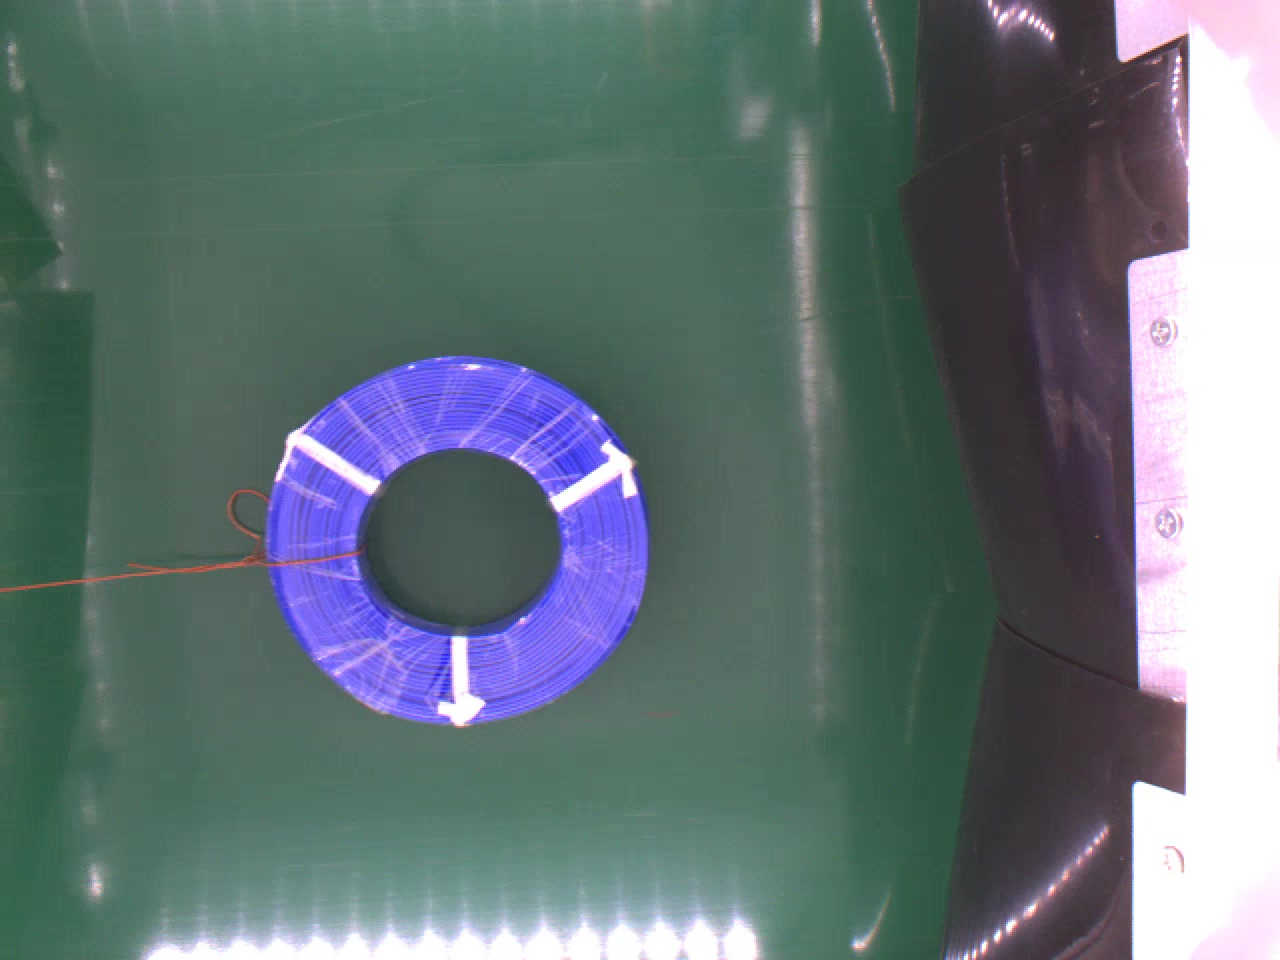blue: (262, 354, 649, 726)
